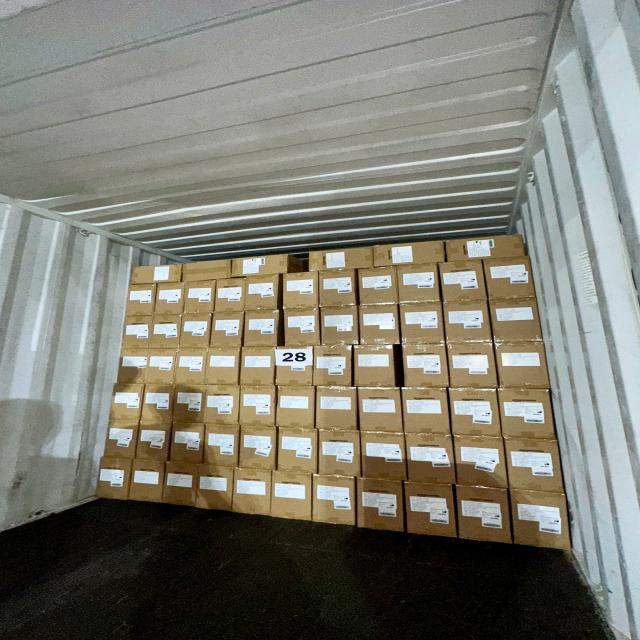Carton: (512, 493, 572, 555), (456, 488, 513, 548), (506, 438, 564, 492), (454, 437, 509, 491), (404, 481, 456, 538), (501, 390, 557, 440), (404, 434, 456, 486), (357, 477, 405, 532), (498, 342, 553, 389), (452, 389, 503, 439), (444, 232, 529, 262), (402, 389, 449, 437), (450, 343, 500, 388), (491, 300, 542, 344), (312, 476, 356, 526), (402, 343, 449, 389), (360, 431, 405, 479), (484, 258, 534, 301), (358, 388, 404, 434), (270, 472, 312, 522), (444, 302, 492, 345), (319, 431, 362, 478), (374, 240, 446, 268), (439, 262, 486, 303), (315, 386, 357, 431), (401, 306, 446, 348), (354, 344, 397, 387), (196, 465, 234, 513), (232, 469, 270, 517), (278, 426, 317, 472), (308, 245, 374, 272), (312, 345, 352, 388), (276, 385, 315, 428), (397, 266, 441, 304), (358, 307, 398, 348), (237, 424, 274, 468), (163, 463, 198, 509), (275, 344, 314, 385), (321, 306, 360, 346), (238, 387, 276, 428), (130, 460, 164, 505), (99, 459, 133, 503), (358, 267, 397, 305), (205, 426, 239, 469), (284, 308, 321, 346), (320, 271, 358, 308), (240, 347, 276, 386), (243, 311, 280, 348), (136, 423, 170, 463), (170, 423, 204, 463), (206, 387, 239, 428), (282, 272, 318, 309), (104, 422, 138, 460), (142, 386, 174, 426), (230, 254, 288, 276), (183, 258, 234, 283), (207, 347, 240, 385), (173, 386, 204, 426), (129, 263, 184, 285), (112, 386, 144, 423), (245, 276, 279, 310), (174, 348, 206, 384), (211, 313, 243, 348), (216, 277, 246, 312), (180, 314, 210, 349), (147, 348, 176, 384), (183, 281, 214, 314), (152, 315, 182, 349), (120, 349, 150, 383), (157, 282, 186, 314), (127, 284, 156, 316), (124, 317, 152, 350)
